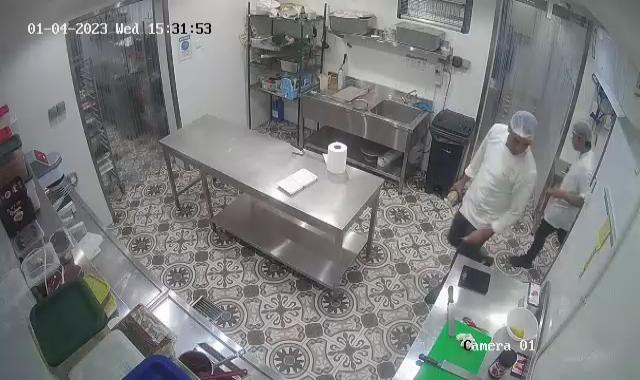hairnet: (509, 110, 538, 144), (574, 121, 592, 144)
